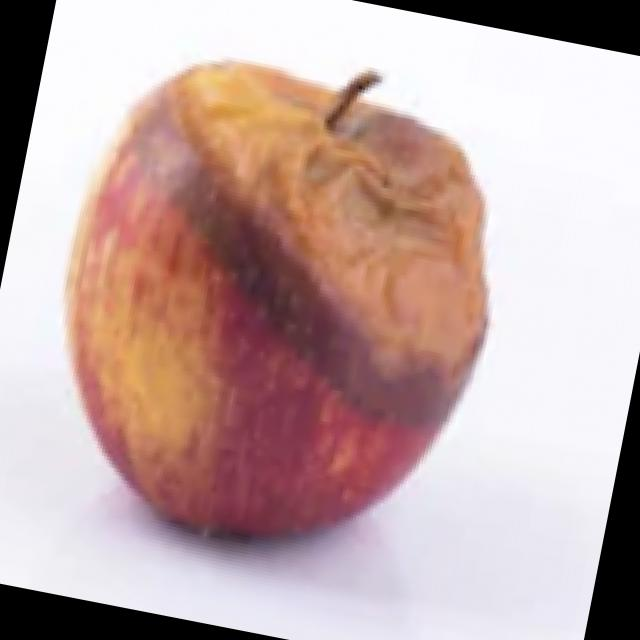rotten_apple: (18, 20, 535, 588)
